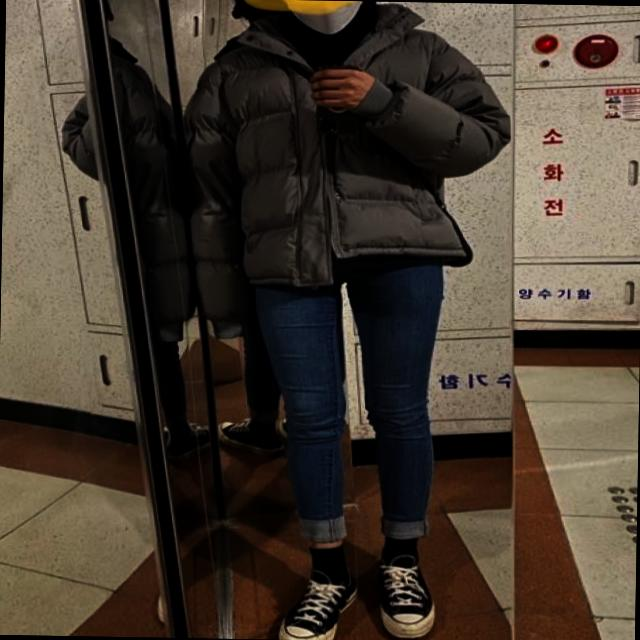denimpants: (240, 252, 444, 549)
padding: (177, 0, 516, 346)
